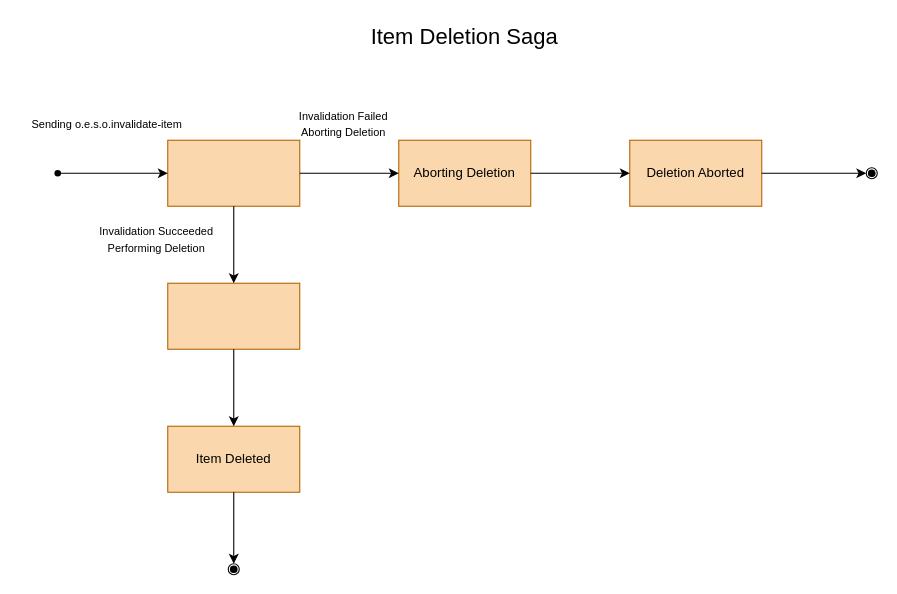
Some shapes in this 897 by 594 pixel diagram are drawn without their labels. The centre of each missing label's shape, as x and y in pixels:
Confirming Deletion: pixel 233 315
Invalidating Item: pixel 233 172
